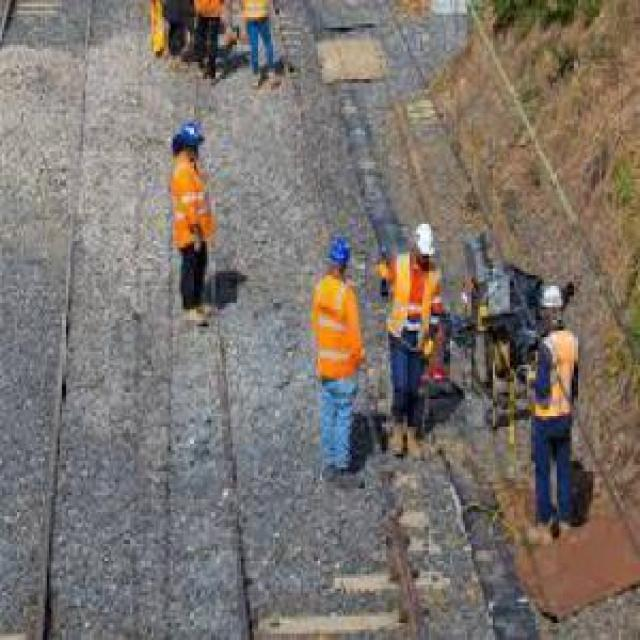rail: (173, 1, 446, 638)
